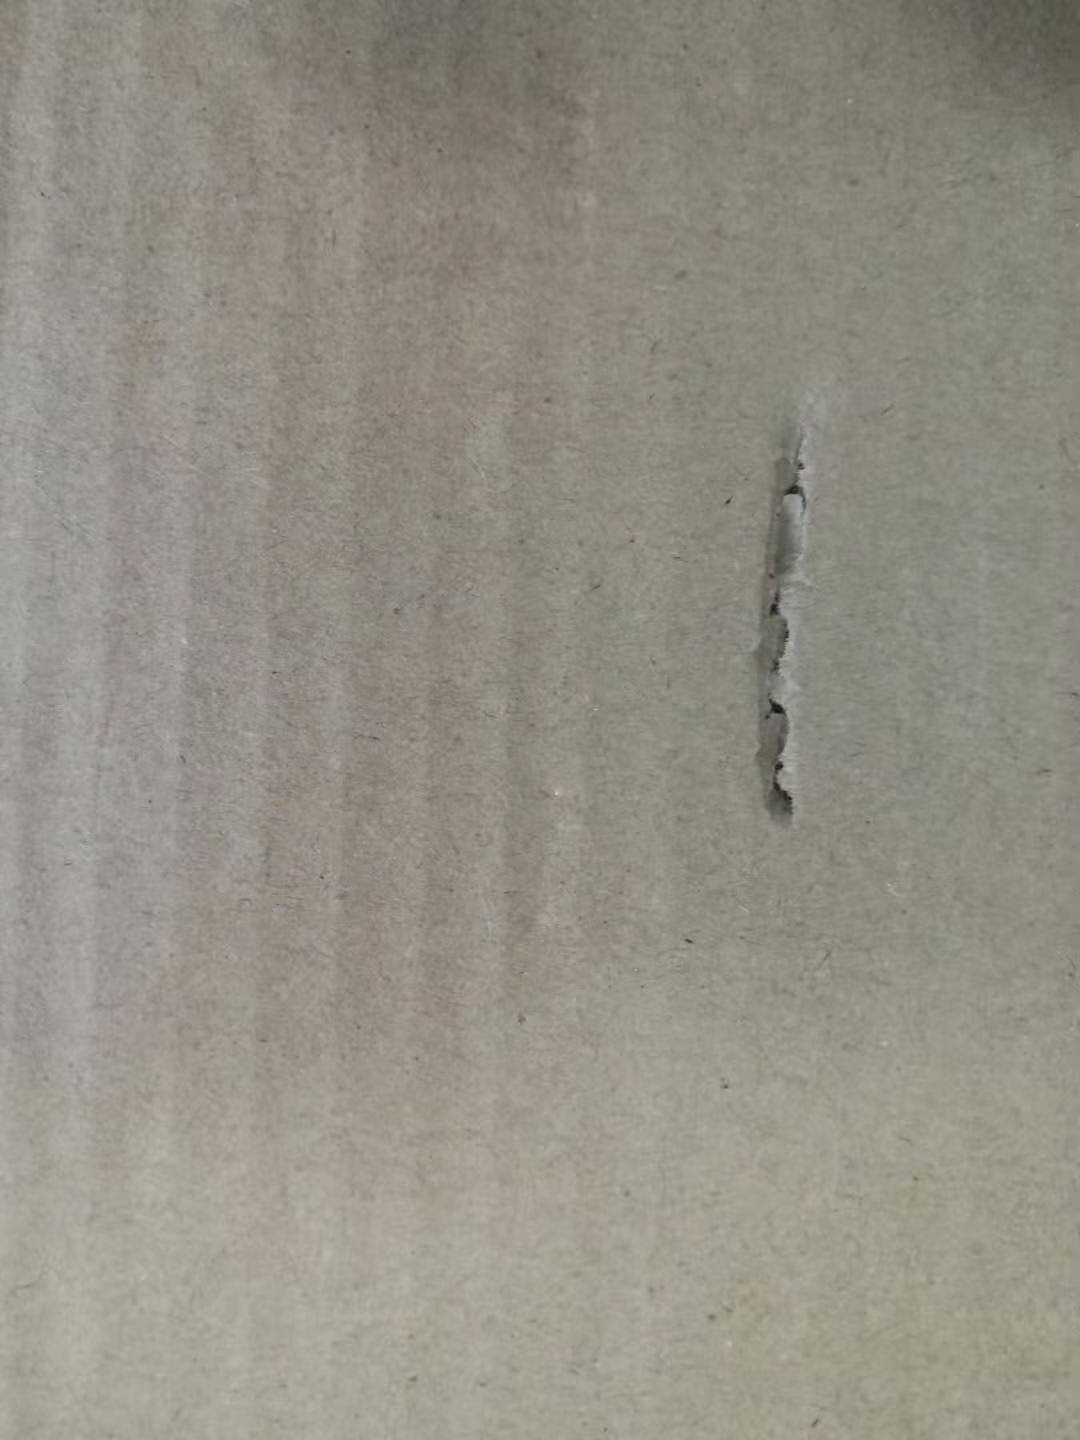defect: (677, 359, 889, 872)
